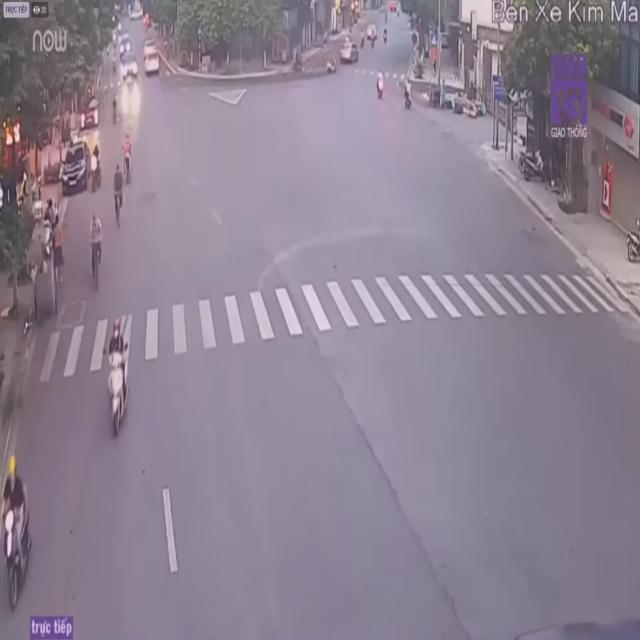motorbike: (0, 452, 36, 616), (105, 321, 131, 432)
